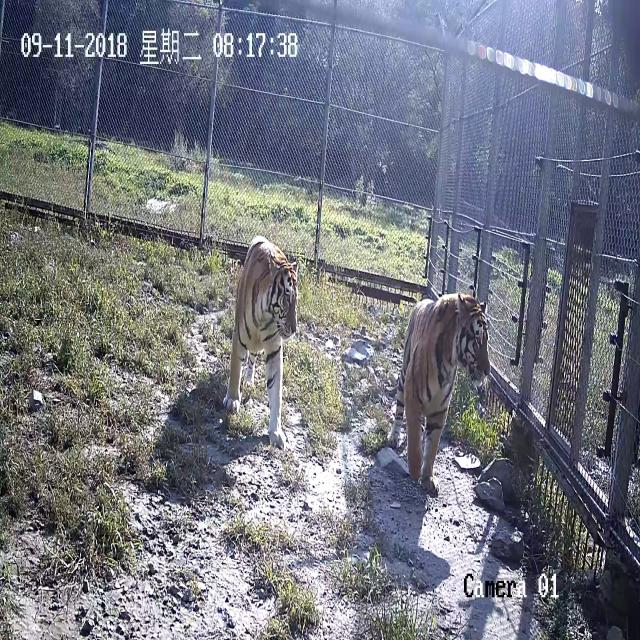Tiger: (392, 274, 492, 500), (229, 229, 312, 454)
